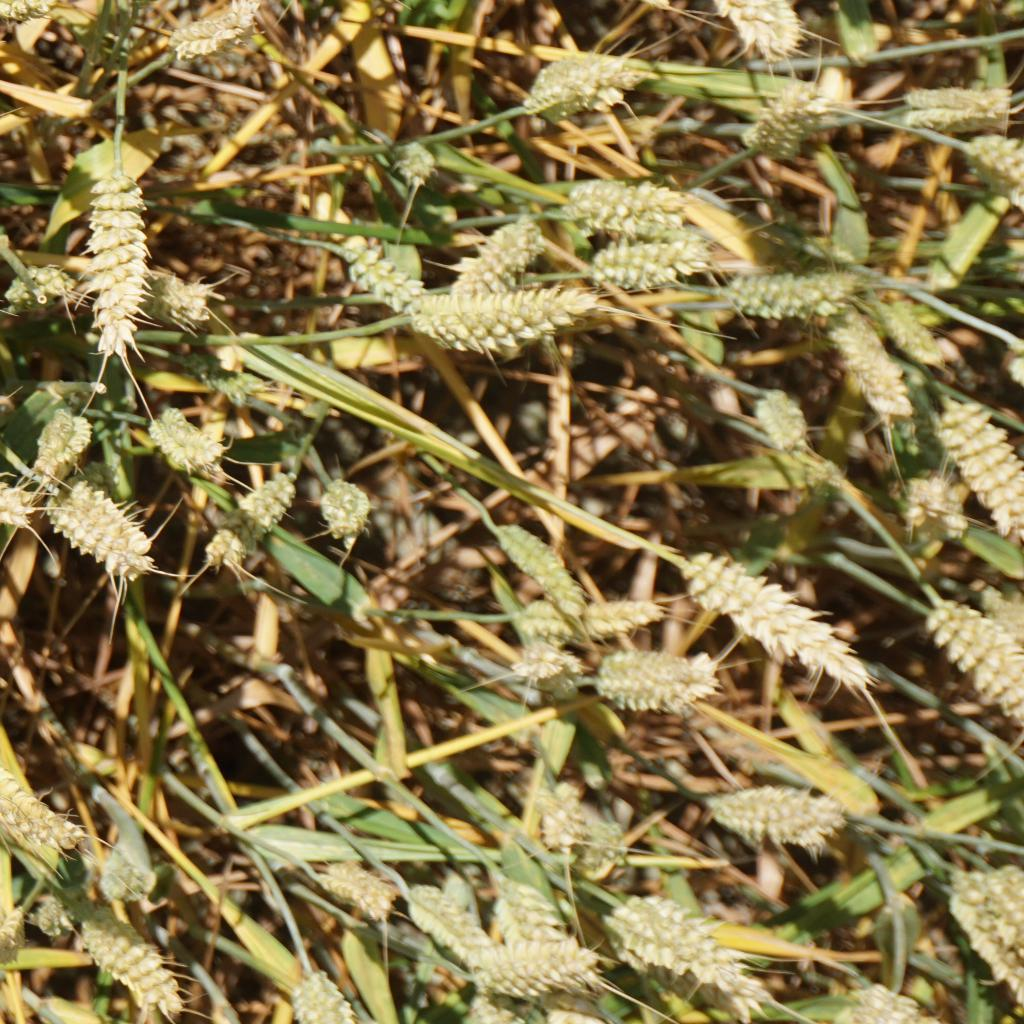0-0: (687, 543, 854, 674), (611, 893, 763, 1004), (50, 479, 166, 589), (0, 717, 90, 850), (415, 285, 586, 355), (703, 773, 840, 859), (78, 902, 182, 1010), (188, 474, 297, 574), (931, 596, 1024, 710), (942, 396, 1024, 523), (91, 166, 147, 351), (952, 863, 1024, 993), (591, 643, 724, 713), (464, 933, 605, 999), (826, 304, 903, 419), (487, 521, 585, 607), (329, 227, 429, 310), (528, 52, 643, 123), (720, 261, 851, 323), (749, 83, 850, 155), (593, 236, 722, 291), (669, 0, 802, 52), (869, 284, 948, 367), (459, 211, 542, 289), (147, 399, 223, 481), (510, 595, 662, 636), (480, 873, 566, 943), (574, 181, 685, 231), (963, 131, 1024, 221), (521, 772, 597, 844), (410, 884, 481, 958), (84, 846, 163, 909), (897, 470, 968, 538), (902, 82, 1015, 124), (172, 3, 251, 63), (287, 965, 367, 1024), (320, 862, 396, 923), (312, 476, 381, 541), (745, 379, 809, 441), (835, 972, 911, 1024), (148, 271, 216, 329), (37, 407, 91, 474), (189, 354, 260, 404), (513, 638, 575, 682), (13, 266, 67, 315), (387, 132, 436, 186), (0, 449, 34, 523), (0, 902, 30, 976), (36, 880, 76, 931), (0, 0, 60, 24)
